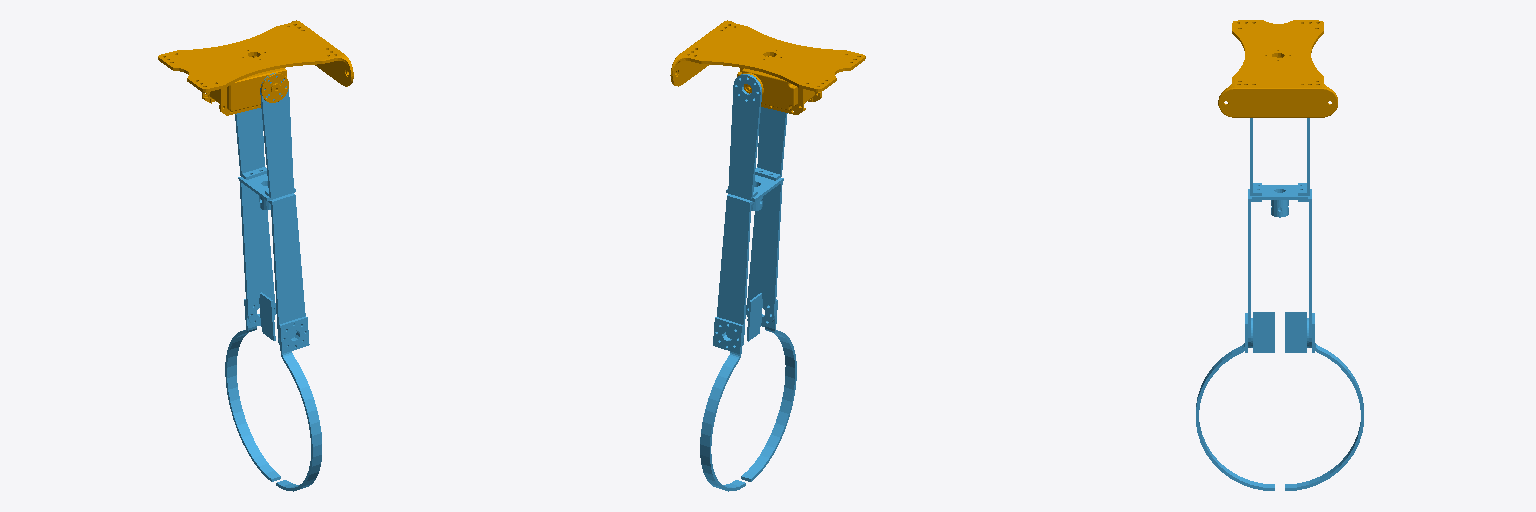
The robot description file, URDF, robot "robot_arm":
<?xml version="1.0" ?>
<robot name="robot_arm">
    <joint name="joint1" type="revolute">
        <parent link="robot_arm__base"/>
        <child link="robot_arm__arm"/>
        <origin rpy="0 0 0" xyz="0.007   0.0001 -0.0211"/>
        <axis xyz="0 1 0"/>
        <dynamics damping="0.01" friction="0.0" />
        <limit effort="100.0" lower="0.5" upper="2.5" velocity="50.0"/>
        <!-- <physics>
            <ode>
                <limit>
                    <cfm>0</cfm>
                    <erp>0.2</erp>
                </limit>
                <suspension>
                    <cfm>0</cfm>
                    <erp>0.2</erp>
                </suspension>
            </ode>
        </physics> -->
    </joint>
    <link name="robot_arm__base">
        <inertial>
            <mass value="0.142"/>
            <origin rpy="0 0 0" xyz="-1.020e-03 -4.000e-05 -1.439e-02"/>
            <inertia ixx="0.000065677" ixy="-0.000000330" ixz="-0.000005073" iyy="0.000156934" iyz="0.000000112" izz="0.000179185"/>
        </inertial>
        <collision name="robot_arm__base_collision">
            <origin rpy="0 0 0" xyz="0    0   -0.02"/>
            <geometry>
                <box size="0.15 0.1 0.05"/>
            </geometry>
        </collision>
        <visual name="robot_arm__base_visual">
            <origin rpy="0 0 0" xyz="0 0 0"/>
            <geometry>
                <mesh filename="package://aerial_catcher/description/meshes/Arm1113_1.STL" scale="1 1 1"/>
            </geometry>
        </visual>
    </link>
    <link name="robot_arm__arm">
        <inertial>
            <mass value="0.069"/>
            <origin rpy="0 0 0" xyz="0.17389  0.00165 -0.00152"/>
            <inertia ixx="79.613e-06" ixy="0.00000000000" ixz="-0.000017458" iyy="0.000768697" iyz="0.00000000000" izz="0.000840273"/>
        </inertial>
        <collision name="robot_arm__arm_collision">
            <origin rpy="0 0 0" xyz="0.2 0  0"/>
            <geometry>
                <box size="0.4 0.1 0.03"/>
            </geometry>
        </collision>
        <visual name="robot_arm__arm_visual">
            <origin rpy="0 0 0" xyz="0 0 0"/>
            <geometry>
                <mesh filename="package://aerial_catcher/description/meshes/Arm1113_2.STL" scale="1 1 1"/>
            </geometry>
        </visual>
    </link>
    <transmission name="tran2">
        <type>transmission_interface/SimpleTransmission</type>
        <joint name="joint1">
            <!-- <hardwareInterface>hardware_interface/PositionJointInterface</hardwareInterface> -->
            <hardwareInterface>hardware_interface/VelocityJointInterface</hardwareInterface>
        </joint>
        <actuator name="motor1">
            <!-- <hardwareInterface>hardware_interface/PositionJointInterface</hardwareInterface> -->
            <hardwareInterface>hardware_interface/VelocityJointInterface</hardwareInterface>
            <mechanicalReduction>1</mechanicalReduction>
        </actuator>
    </transmission>
    <gazebo>
        <plugin name="gazebo_ros_control" filename="libgazebo_ros_control.so">
            <!-- <robotNamespace>/simple_arm</robotNamespace> -->
            <robotSimType>gazebo_ros_control/DefaultRobotHWSim</robotSimType>
            <legacyModeNS>true</legacyModeNS>
        </plugin>
    </gazebo>
</robot>

--- What the picture shows (computed from the rendered views, not written in the file) ---
Views: 3 orthographic renders of the robot side by side, from view 1: azimuth 30°, elevation 25°; view 2: azimuth 150°, elevation 25°; view 3: azimuth 270°, elevation 25°.
Robot: robot_arm — 2 links, 1 joints (1 revolute); root link robot_arm__base; default pose: all joints at 0 but 1 set to mid-range because 0 is outside their limits (joint1 = 1.5).
Links seen in each view (by area): view 1: robot_arm__arm, robot_arm__base; view 2: robot_arm__arm, robot_arm__base; view 3: robot_arm__base, robot_arm__arm.
Link boxes in pixels (left/top/right/bottom): robot_arm__arm: left=225, top=73, right=321, bottom=491; robot_arm__base: left=158, top=20, right=353, bottom=115; robot_arm__arm: left=700, top=74, right=796, bottom=491; robot_arm__base: left=670, top=20, right=865, bottom=114; robot_arm__base: left=1218, top=20, right=1337, bottom=117; robot_arm__arm: left=1196, top=118, right=1363, bottom=490.
Bounding box of the posed robot: 0.147 × 0.1542 × 0.4261 m (x, y, z).
Meshes: 2 distinct files referenced, 2 mesh visuals loaded (2 binary STL).